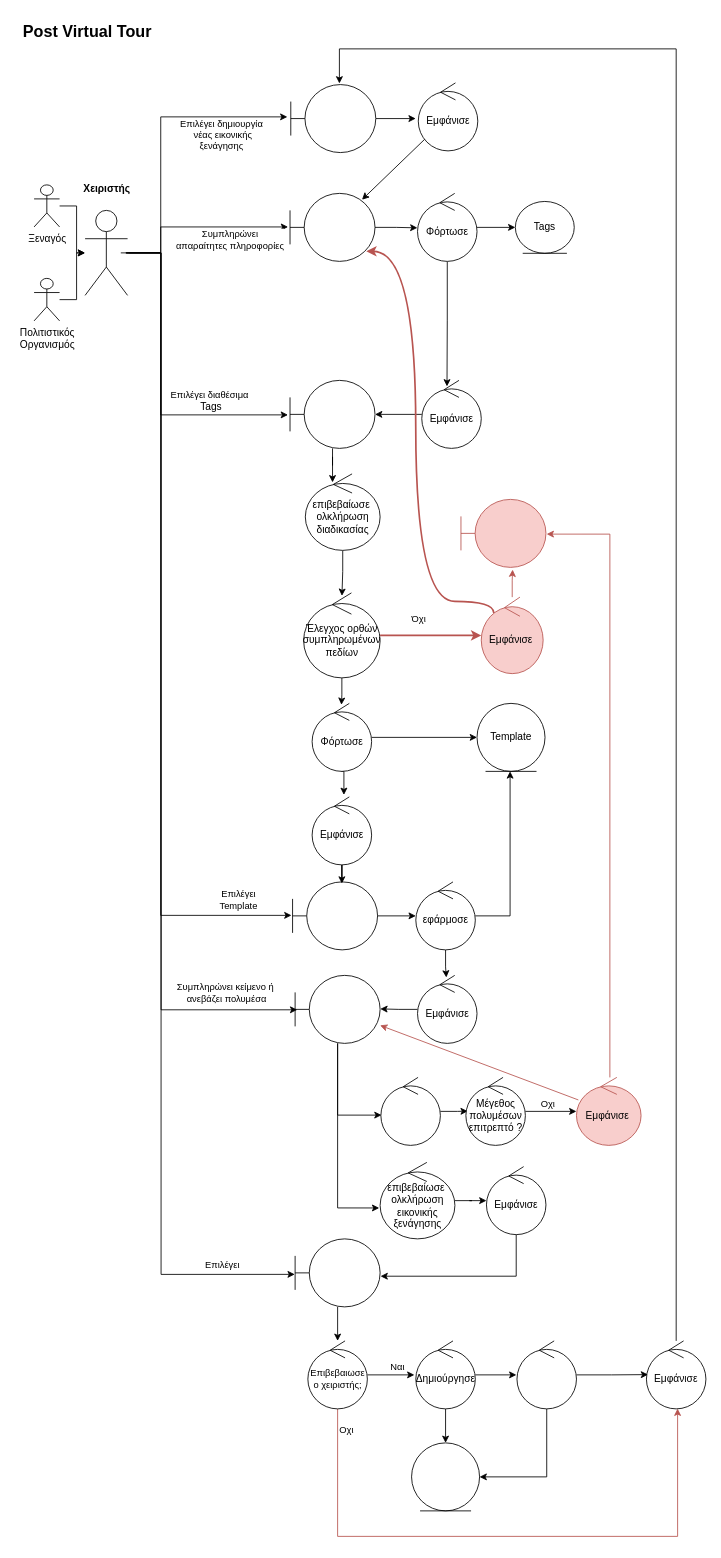
Some shapes in this 721 by 1558 pixel diagram are drawn without their labels. Here are the shapes that lost their labels. From the top down, the box of each, then its label:
(290, 84, 376, 153): Οθόνη Ιστορικού Events
(289, 193, 375, 261): Οθόνη Δημιουργίας εικονικής ξεναγήσης
(289, 380, 375, 448): Πεδίο επιλογής tags
(460, 499, 546, 567): Μήνυμα λάθους
(292, 881, 378, 950): Οθόνη επιλογής Templates
(294, 975, 380, 1043): Οθόνη επεξεργασίας εικονικής ξενάγησης
(380, 1077, 440, 1145): Ανέβασε πολυμέσα
(294, 1238, 380, 1307): Πεδίο επιβεβαίωσης ανάρτησης
(516, 1340, 576, 1409): Αποθήκευσε
(411, 1442, 480, 1511): Εικονική ξενάγηση
